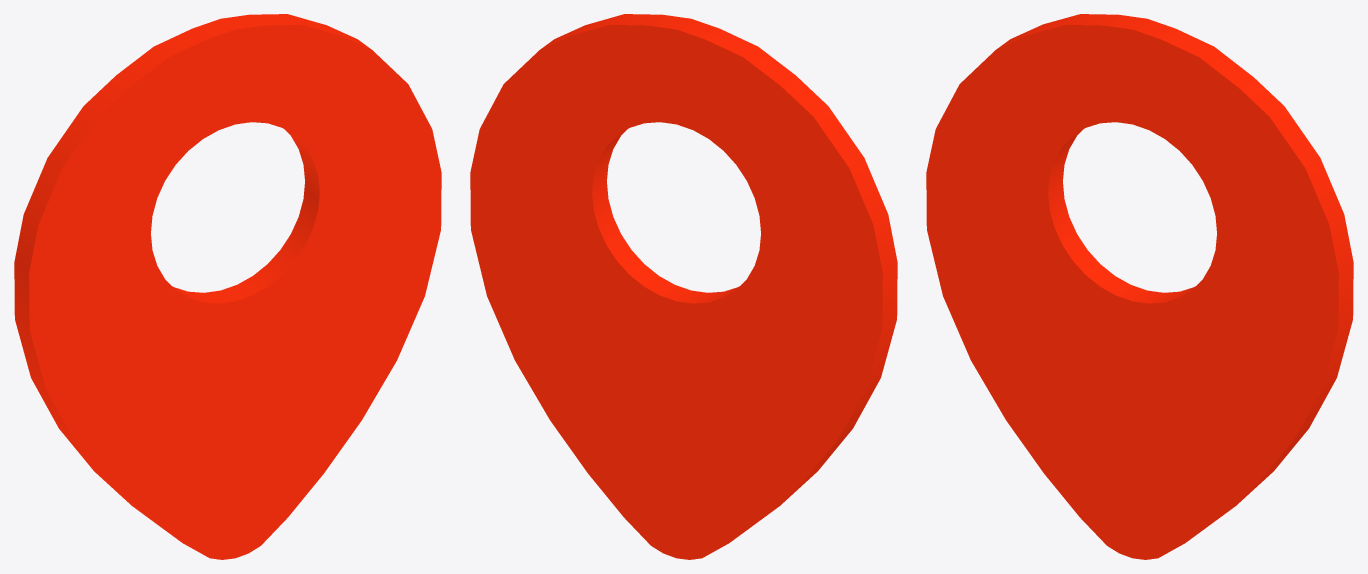
Rendered from pushpin.glb.
The picture shows the model from 3 angles, left to right: view 1: azimuth 30°, elevation 25°; view 2: azimuth 150°, elevation 25°; view 3: azimuth 330°, elevation 25°; orthographic projection.
Visible parts, largest first — view 1: lp; view 2: lp; view 3: lp.
Boxes of the visible parts, x1=… form: lp: x1=14, y1=14, x2=441, y2=559; lp: x1=470, y1=14, x2=897, y2=559; lp: x1=926, y1=14, x2=1353, y2=559.
Size of the model in its own units: 323 by 395 by 20.
